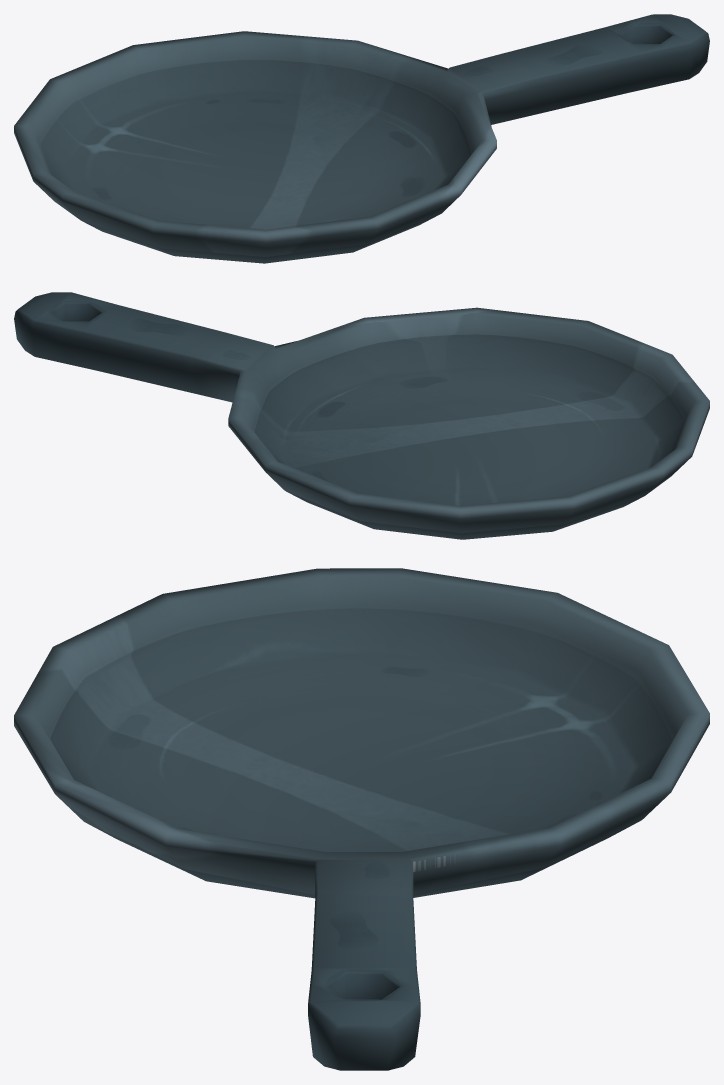
The model's file is PanMed.fbx.
3 renders of one model, top to bottom at view 1: azimuth 30°, elevation 25°; view 2: azimuth 150°, elevation 25°; view 3: azimuth 270°, elevation 25°, orthographic. The views are drawn at different scales.
Parts seen in each view (by area): view 1: PanMed; view 2: PanMed; view 3: PanMed.
Part boxes in pixels (<box>): PanMed: <box>14,14,709,263</box>; PanMed: <box>14,292,709,539</box>; PanMed: <box>14,568,709,1070</box>.
Size of the model in its own units: 90.44 by 6.87 by 58.14.
